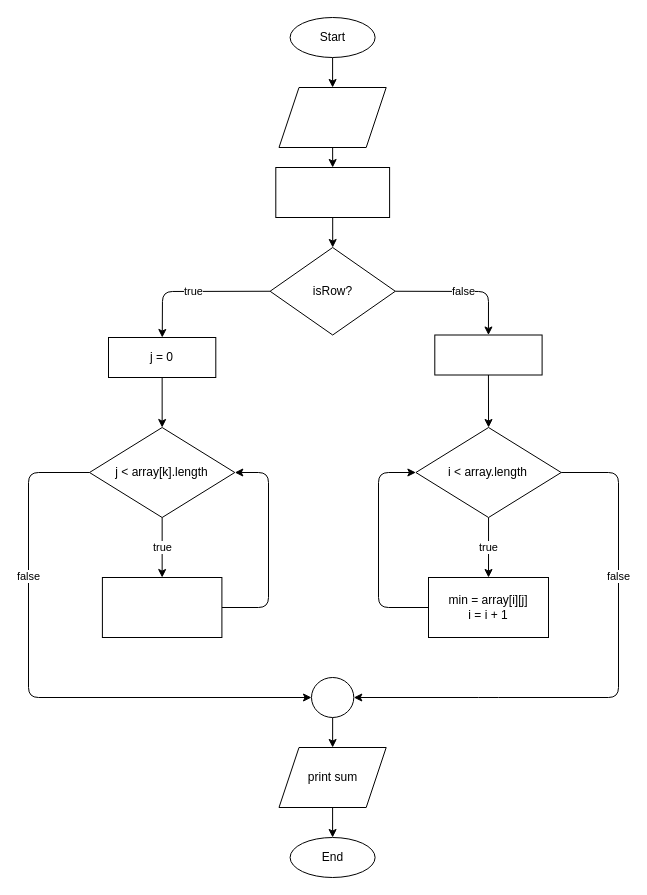
This 647x895 diagram has some shape labels left out. The shapes that lost their labels are listed below. From the top down, each one's box as (x1, y1, x2, y2) in pixels, then its label:
(278, 86, 386, 148): Input array, k , isRow = true
(275, 166, 390, 218): sum = 0
(434, 334, 542, 375): i = 0
(101, 576, 222, 638): sum = array[k][j] j = j + 1
